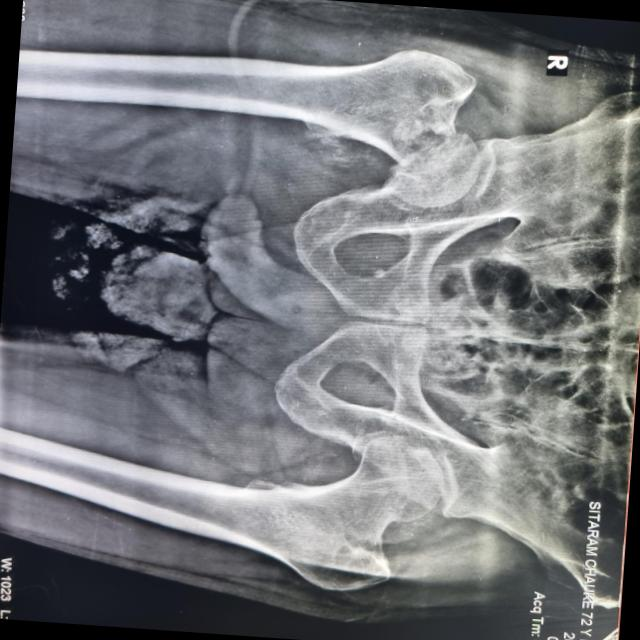normal-left: (184, 436, 444, 591)
right-neck: (249, 48, 476, 164), (380, 133, 480, 208)
